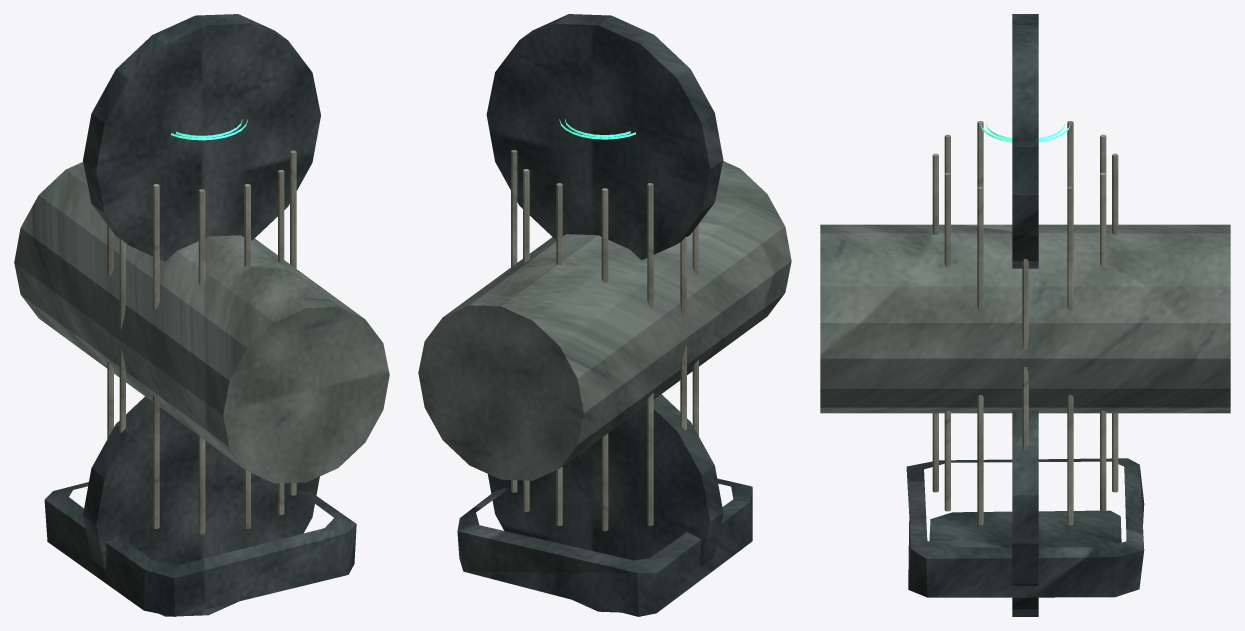
Rendered from 0292_fluted_column_17.glb.
3 renders of one model, left to right at view 1: azimuth 30°, elevation 25°; view 2: azimuth 150°, elevation 25°; view 3: azimuth 270°, elevation 25°, orthographic.
Visible parts, largest first — view 1: stone_dark, stone, stone_light; view 2: stone_dark, stone, stone_light; view 3: stone, stone_dark, stone_light.
Part boxes in pixels (x1,y1,x2,y2): stone_dark: (44, 14, 356, 616); stone: (14, 162, 389, 483); stone_light: (107, 150, 296, 534); stone_dark: (457, 14, 752, 616); stone: (418, 161, 791, 480); stone_light: (511, 150, 698, 531); stone: (820, 224, 1230, 413); stone_dark: (906, 14, 1144, 616); stone_light: (932, 121, 1118, 525).
Bounding box in the file's own units: 1.36 × 3.42 × 2.19.
Materials: 4 (4 with a texture image).
